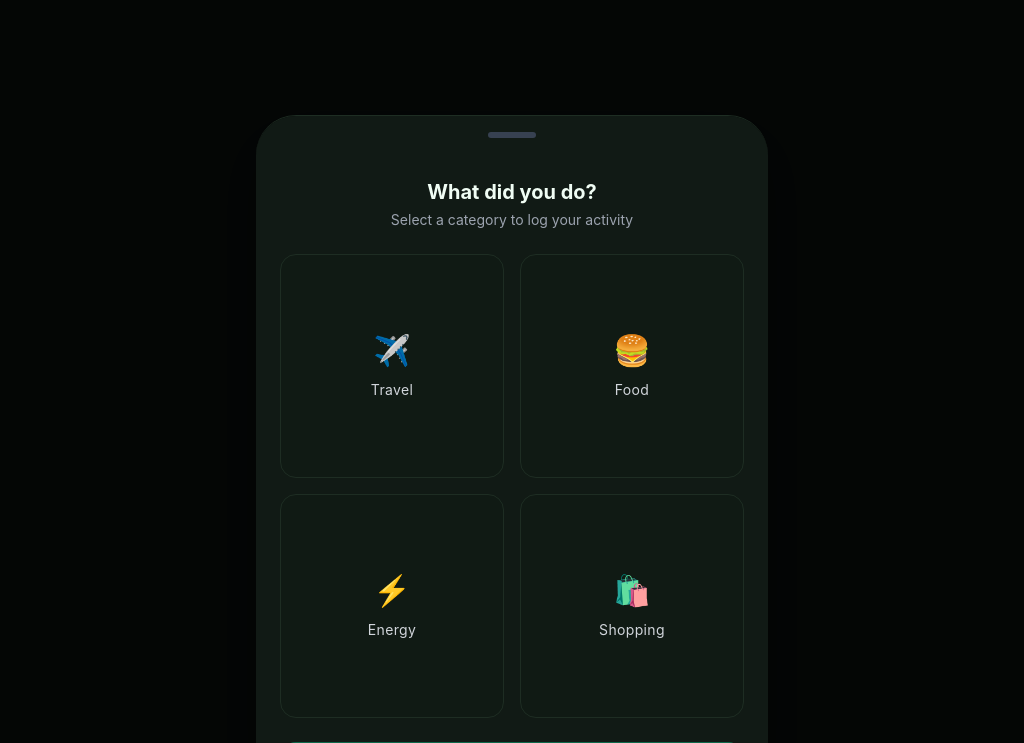
it: LogSheet › goes back to CategoryGrid when Back is clicked on step 2
Step 1. Click the text "Food" → (632, 390), box x1=615 y1=380 x2=649 y2=400
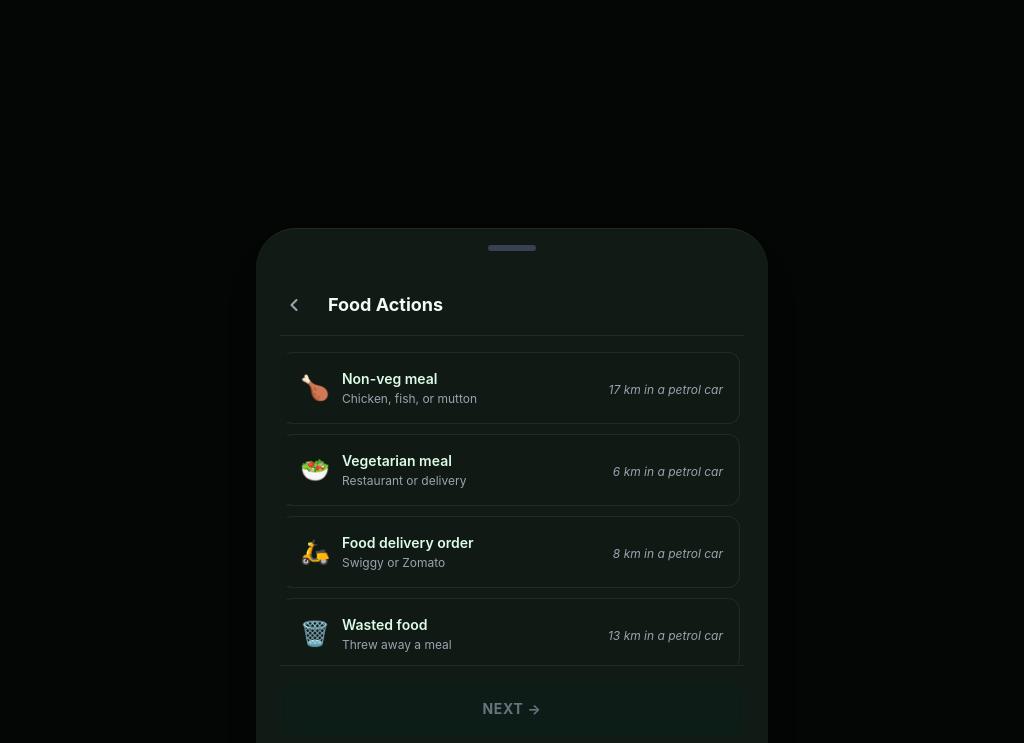
Result: the heading "Food Actions" is shown at x1=328 y1=291 x2=443 y2=319
Step 2. Click the button named "Back to categories" → (294, 305), box x1=276 y1=287 x2=312 y2=323
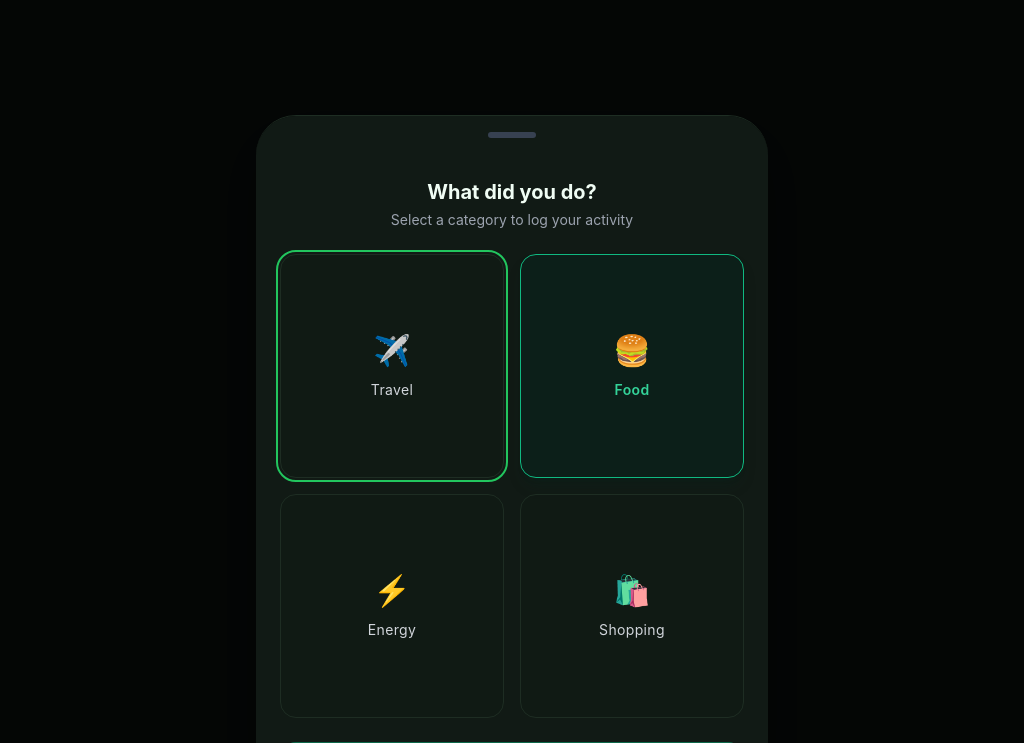
Result: the heading "What did you do?" is shown at x1=427 y1=180 x2=597 y2=204
